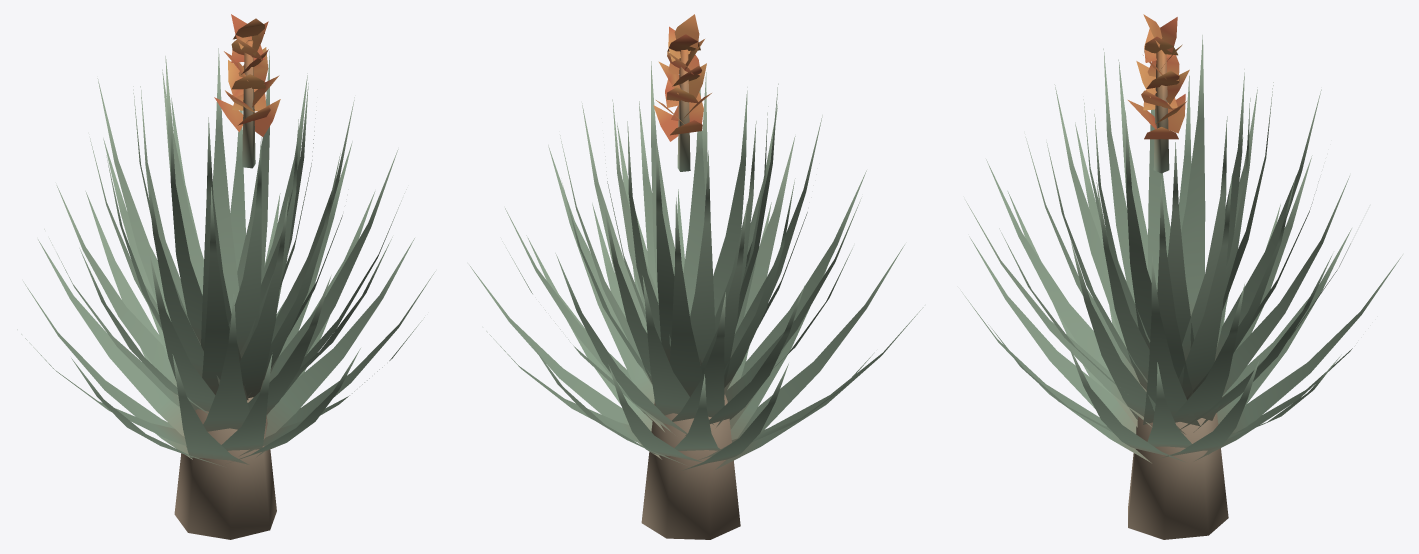
The model's file is aloe_flower.glb.
3 renders of one model, left to right at view 1: azimuth 30°, elevation 25°; view 2: azimuth 150°, elevation 25°; view 3: azimuth 270°, elevation 25°, orthographic. The views are drawn at different scales.
Parts seen in each view (by area): view 1: aloe_flower; view 2: aloe_flower; view 3: aloe_flower.
Part boxes in pixels (box(x1,y1,x2,y2)): aloe_flower: box(17, 14, 435, 539); aloe_flower: box(469, 14, 923, 539); aloe_flower: box(961, 14, 1402, 539).
Size of the model in its own units: 1.29 by 1.6 by 1.27.
